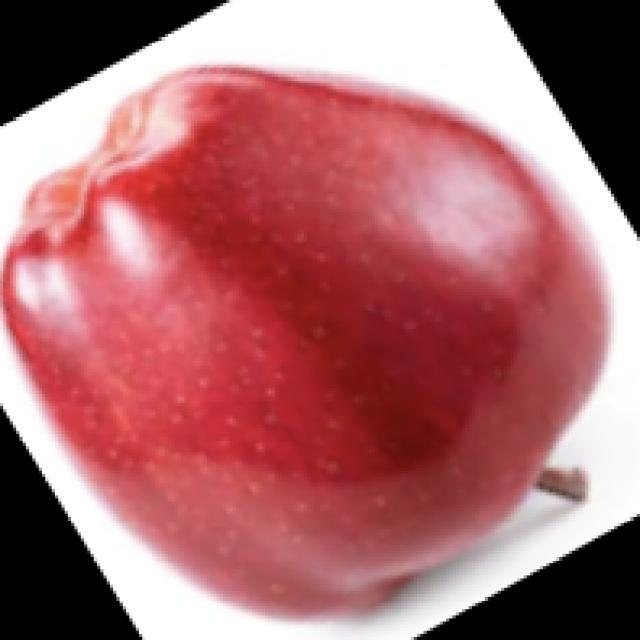Fresh Apple: (10, 60, 605, 618)
